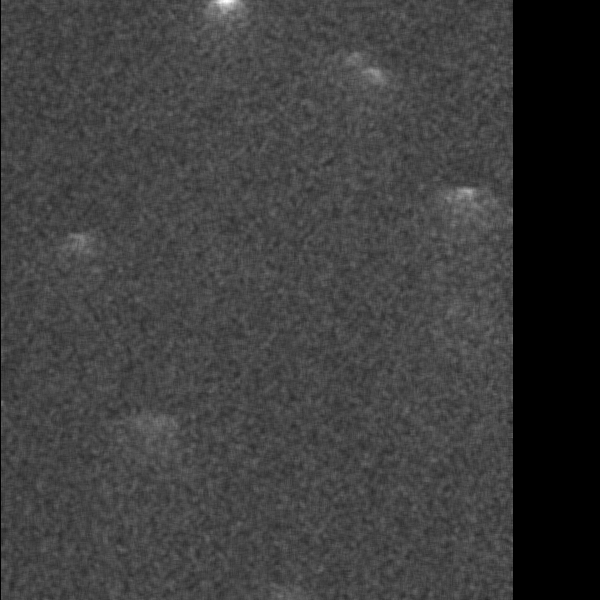spark: (239, 581, 328, 600), (65, 227, 94, 278), (443, 180, 481, 215), (358, 61, 385, 101), (149, 409, 166, 461)
